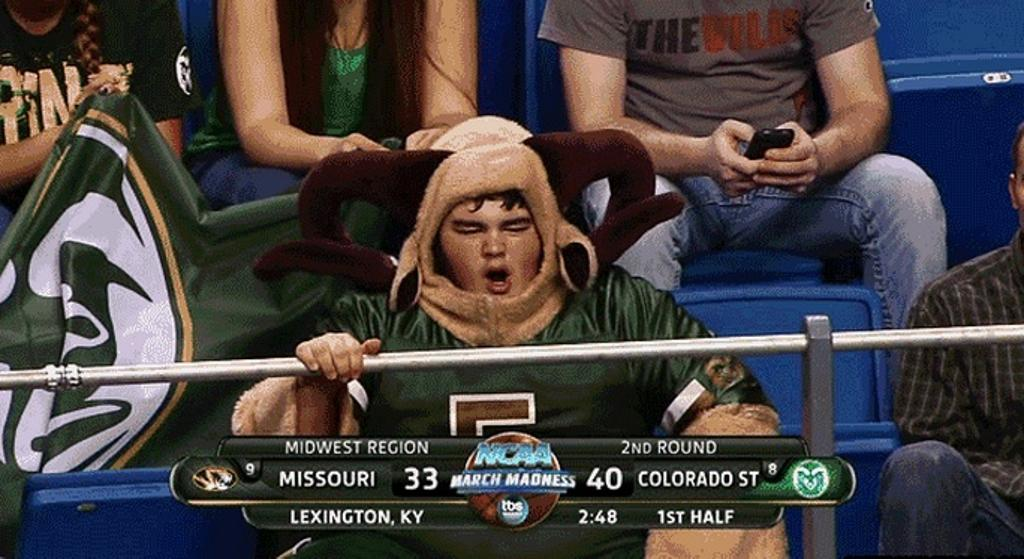face: (448, 194, 542, 310)
